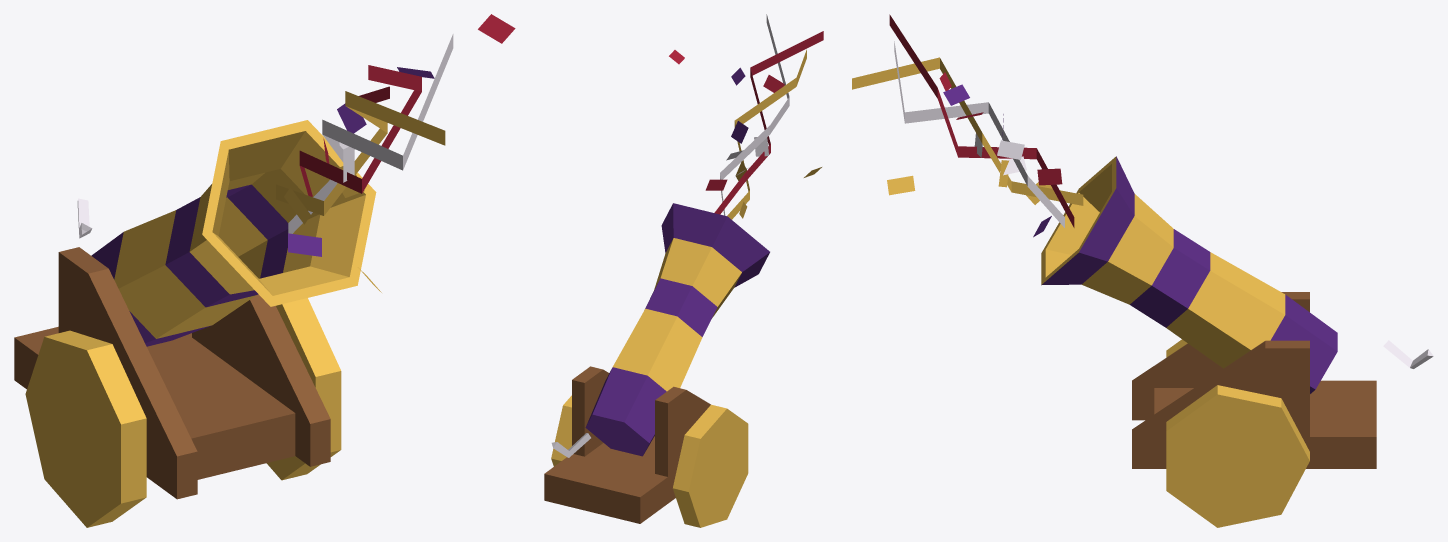
File: confetti_cannon.glb
3 views of the same model, side by side, from view 1: azimuth 30°, elevation 25°; view 2: azimuth 150°, elevation 25°; view 3: azimuth 270°, elevation 25° (orthographic). The views are drawn at different scales.
Visible parts, largest first — view 1: confetti_cannon; view 2: confetti_cannon; view 3: confetti_cannon.
Part boxes in pixels (left/top/right/bottom): confetti_cannon: left=14, top=14, right=515, bottom=527; confetti_cannon: left=544, top=14, right=823, bottom=527; confetti_cannon: left=852, top=14, right=1433, bottom=527.
Bounding box in the file's own units: 0.5 × 1.15 × 1.31.
